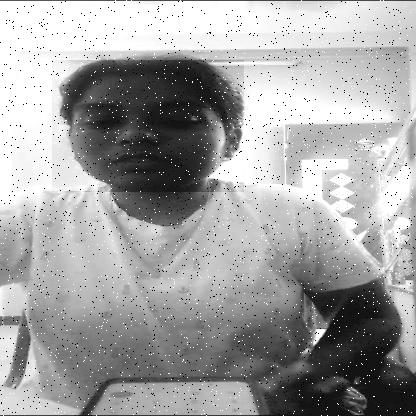Normal: (52, 60, 244, 192)
